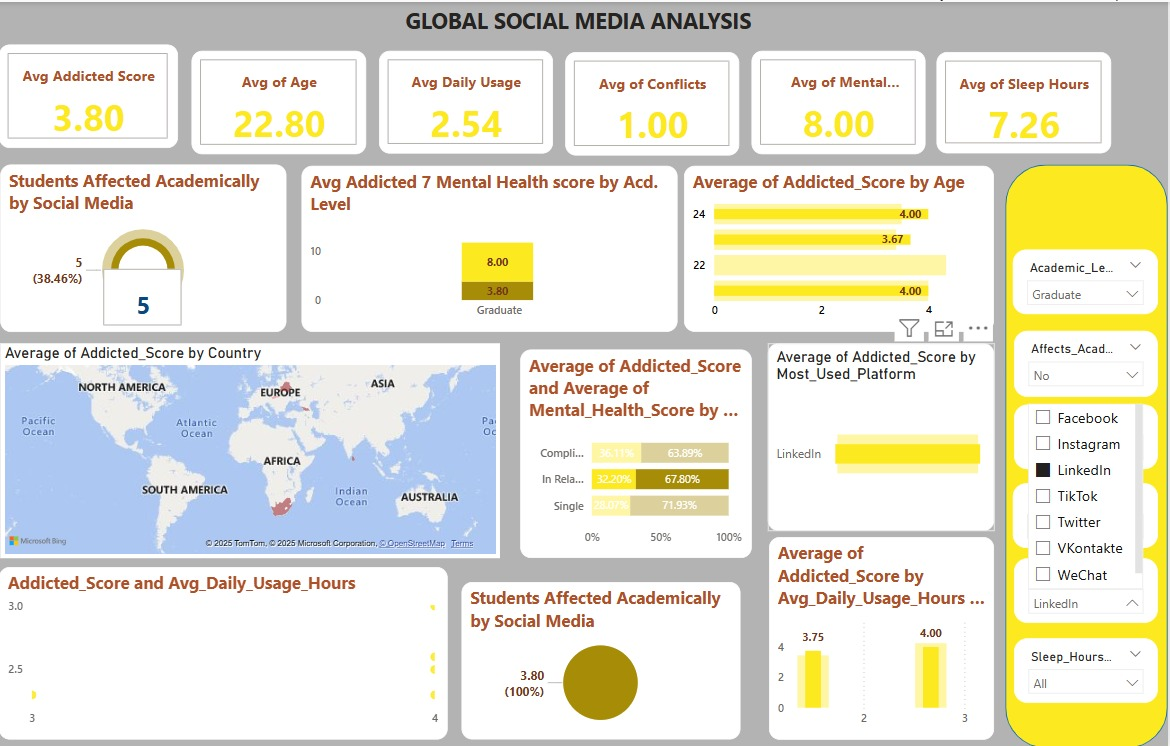

This screenshot's page, from the dashboard's own definition file:
{"tool":"powerbi","page":{"name":"Global Analysis","canvas":[1300,830],"ordinal":0},"visuals":[{"type":"shape","box":[1119.6,180.8,180.8,649.5],"z":0},{"type":"cardVisual","fields":{"Data":["Avg(Students Social Media Addiction.Addicted_Score)"]},"box":[0,47.3,198.9,115.4],"z":1000},{"type":"cardVisual","fields":{"Data":["Avg(Students Social Media Addiction.Age)"]},"box":[214.2,54.2,194.7,115.4],"z":2000},{"type":"cardVisual","fields":{"Data":["Avg(Students Social Media Addiction.Avg_Daily_Usage_Hours)"]},"box":[422.8,54.2,193.3,114],"z":3000},{"type":"cardVisual","fields":{"Data":["Avg(Students Social Media Addiction.Conflicts_Over_Social_Media)"]},"box":[630,55.6,193.3,115.4],"z":4000},{"type":"cardVisual","fields":{"Data":["Avg(Students Social Media Addiction.Mental_Health_Score)"]},"box":[837.2,54.2,193.3,115.4],"z":5000},{"type":"cardVisual","fields":{"Data":["Avg(Students Social Media Addiction.Sleep_Hours_Per_Night)"]},"box":[1043.1,55.6,194.7,112.7],"z":6000},{"type":"columnChart","title":"Avg Addicted 7 Mental Health score by Acd. Level","fields":{"Category":["Students Social Media Addiction.Academic_Level"],"Y":["Avg(Students Social Media Addiction.Addicted_Score)","Avg(Students Social Media Addiction.Mental_Health_Score)"]},"box":[336.6,182.2,418.6,185],"z":7000},{"type":"donutChart","title":"Students Affected Academically by Social Media","fields":{"Category":["Students Social Media Addiction.Affects_Academic_Performance"],"Y":["CountNonNull(Students Social Media Addiction.Student_ID)"]},"box":[1.4,180.8,318.5,186.4],"z":8000},{"type":"cardVisual","fields":{"Data":["Count(Students Social Media Addiction.Student_ID)"]},"box":[100.1,292.1,97.4,75.1],"z":9000},{"type":"clusteredBarChart","fields":{"Category":["Students Social Media Addiction.Age"],"Y":["Avg(Students Social Media Addiction.Addicted_Score)"]},"box":[762.1,182.2,344.9,185],"z":10000},{"type":"slicer","fields":{"Values":["Students Social Media Addiction.Academic_Level"]},"box":[1127.9,275.4,161.3,72.3],"z":11000},{"type":"slicer","fields":{"Values":["Students Social Media Addiction.Affects_Academic_Performance"]},"box":[1129.3,365.8,159.9,73.7],"z":12000},{"type":"slicer","fields":{"Values":["Students Social Media Addiction.Country"]},"box":[1129.3,447.8,159.9,72.3],"z":13000},{"type":"slicer","fields":{"Values":["Students Social Media Addiction.Gender"]},"box":[1127.9,535.4,161.3,72.3],"z":14000},{"type":"slicer","fields":{"Values":["Students Social Media Addiction.Most_Used_Platform"]},"box":[1129.3,618.9,159.9,72.3],"z":15000},{"type":"filledMap","fields":{"Category":["Students Social Media Addiction.Country"]},"box":[1.4,379.7,556.3,239.2],"z":16000},{"type":"pieChart","title":"Students Affected Academically by Social Media","fields":{"Category":["Students Social Media Addiction.Gender"],"Y":["Avg(Students Social Media Addiction.Addicted_Score)"]},"box":[514.6,645.3,310.1,175.2],"z":17000},{"type":"funnel","fields":{"Category":["Students Social Media Addiction.Most_Used_Platform"],"Y":["Avg(Students Social Media Addiction.Addicted_Score)"]},"box":[855.3,379.7,251.7,208.6],"z":18000},{"type":"hundredPercentStackedBarChart","fields":{"Category":["Students Social Media Addiction.Relationship_Status"],"Y":["Avg(Students Social Media Addiction.Addicted_Score)","Avg(Students Social Media Addiction.Mental_Health_Score)"]},"box":[579.9,386.6,257.3,232.3],"z":19000},{"type":"lineStackedColumnComboChart","fields":{"Y":["Avg(Students Social Media Addiction.Addicted_Score)"],"Category":["Students Social Media Addiction.Avg_Daily_Usage_Hours (bins)"]},"box":[856.7,595.2,250.3,225.3],"z":20000},{"type":"scatterChart","fields":{"X":["Students Social Media Addiction.Addicted_Score"],"Y":["Students Social Media Addiction.Avg_Daily_Usage_Hours"]},"box":[0,628.6,499.3,191.9],"z":21000},{"type":"textbox","box":[0,0,1289.2,47.3],"z":22000},{"type":"slicer","fields":{"Values":["Students Social Media Addiction.Sleep_Hours_Per_Night"]},"box":[1129.3,707.9,159.9,72.3],"z":23000}]}

Visuals, with their boxes in screenshot pixels (x1, y1, x2, y2), scaled from the page's 1300x830 canvas onto the 1170x746 screenshot:
shape: bbox=(1008, 163, 1169, 745)
cardVisual - Avg(Students Social Media Addiction.Addicted_Score): bbox=(0, 43, 179, 146)
cardVisual - Avg(Students Social Media Addiction.Age): bbox=(193, 49, 368, 152)
cardVisual - Avg(Students Social Media Addiction.Avg_Daily_Usage_Hours): bbox=(381, 49, 554, 151)
cardVisual - Avg(Students Social Media Addiction.Conflicts_Over_Social_Media): bbox=(567, 50, 741, 154)
cardVisual - Avg(Students Social Media Addiction.Mental_Health_Score): bbox=(753, 49, 927, 152)
cardVisual - Avg(Students Social Media Addiction.Sleep_Hours_Per_Night): bbox=(939, 50, 1114, 151)
"Avg Addicted 7 Mental Health score by Acd. Level" columnChart: bbox=(303, 164, 680, 330)
"Students Affected Academically by Social Media" donutChart: bbox=(1, 163, 288, 330)
cardVisual - Count(Students Social Media Addiction.Student_ID): bbox=(90, 263, 178, 330)
clusteredBarChart - Students Social Media Addiction.Age x Avg(Students Social Media Addiction.Addicted_Score): bbox=(686, 164, 996, 330)
slicer - Students Social Media Addiction.Academic_Level: bbox=(1015, 248, 1160, 313)
slicer - Students Social Media Addiction.Affects_Academic_Performance: bbox=(1016, 329, 1160, 395)
slicer - Students Social Media Addiction.Country: bbox=(1016, 402, 1160, 467)
slicer - Students Social Media Addiction.Gender: bbox=(1015, 481, 1160, 546)
slicer - Students Social Media Addiction.Most_Used_Platform: bbox=(1016, 556, 1160, 621)
filledMap - Students Social Media Addiction.Country: bbox=(1, 341, 502, 556)
"Students Affected Academically by Social Media" pieChart: bbox=(463, 580, 742, 737)
funnel - Students Social Media Addiction.Most_Used_Platform x Avg(Students Social Media Addiction.Addicted_Score): bbox=(770, 341, 996, 529)
hundredPercentStackedBarChart - Students Social Media Addiction.Relationship_Status x Avg(Students Social Media Addiction.Addicted_Score): bbox=(522, 347, 753, 556)
lineStackedColumnComboChart - Avg(Students Social Media Addiction.Addicted_Score) x Students Social Media Addiction.Avg_Daily_Usage_Hours (bins): bbox=(771, 535, 996, 737)
scatterChart - Students Social Media Addiction.Addicted_Score x Students Social Media Addiction.Avg_Daily_Usage_Hours: bbox=(0, 565, 449, 737)
textbox: bbox=(0, 0, 1160, 43)
slicer - Students Social Media Addiction.Sleep_Hours_Per_Night: bbox=(1016, 636, 1160, 701)
